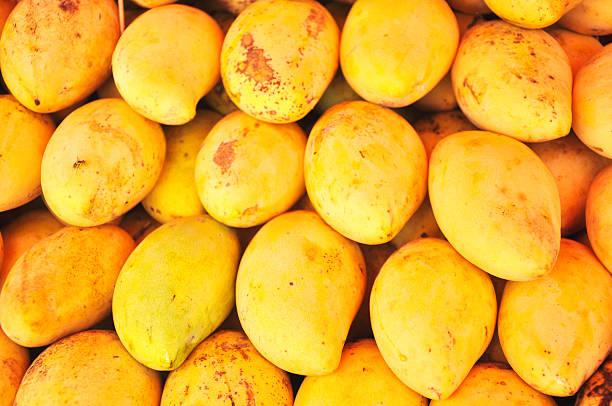mango: (429, 127, 570, 286), (372, 233, 497, 399), (242, 211, 364, 377), (121, 216, 241, 366), (309, 98, 429, 244), (509, 237, 612, 399), (222, 0, 342, 124), (0, 0, 122, 119), (45, 95, 159, 221), (458, 19, 573, 143), (197, 106, 312, 225), (8, 223, 119, 344), (115, 3, 222, 128), (343, 0, 458, 109), (8, 329, 162, 406), (167, 332, 293, 406), (297, 337, 427, 406), (0, 88, 50, 214)
